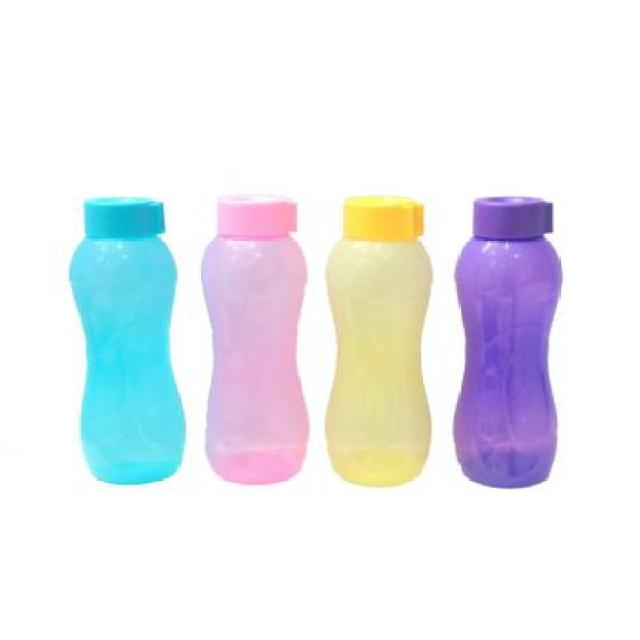Drinking: (53, 178, 193, 500), (452, 199, 580, 499), (198, 196, 308, 496)
